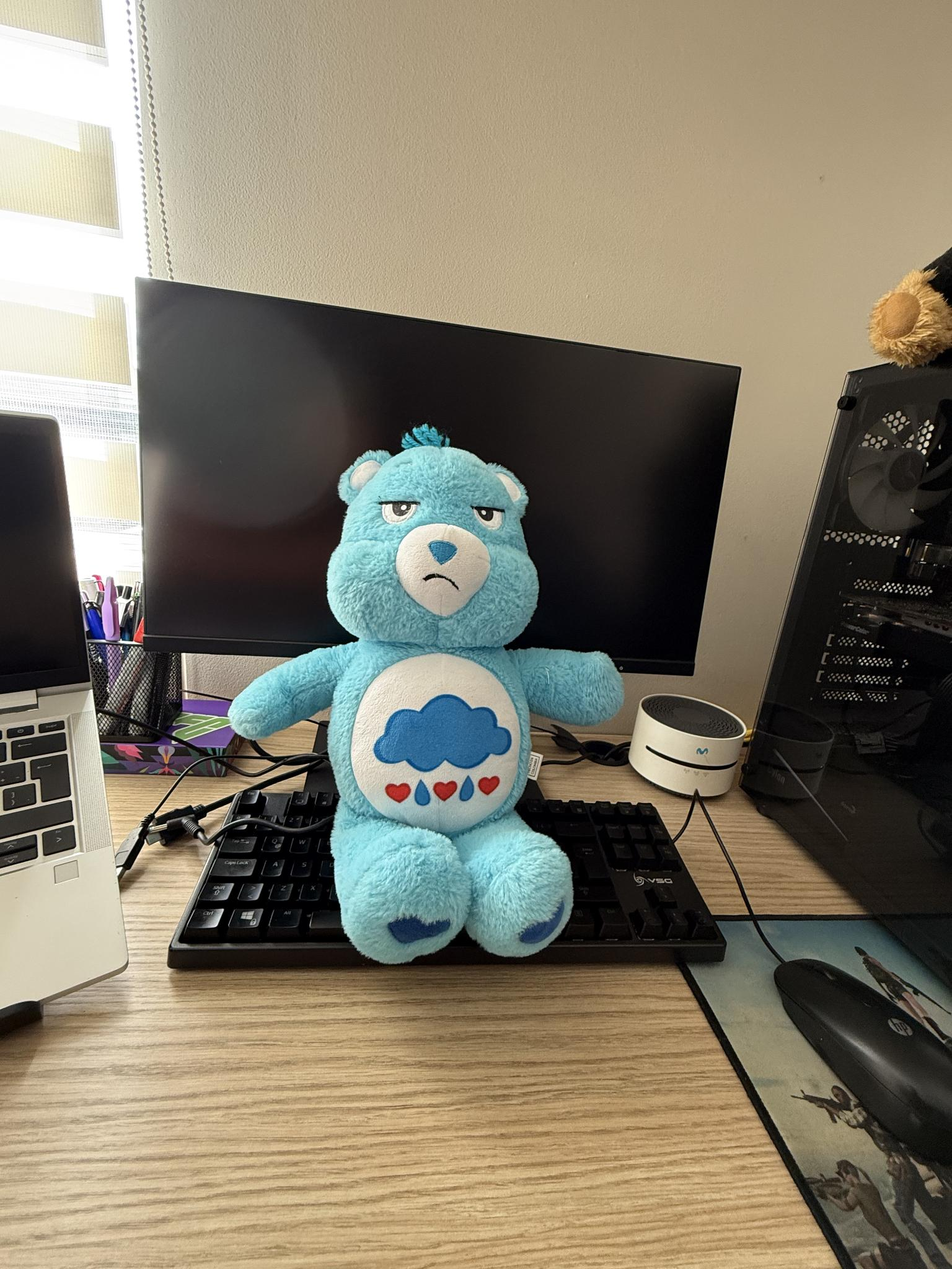peluche_Juan Jose: (304, 433, 615, 965)
